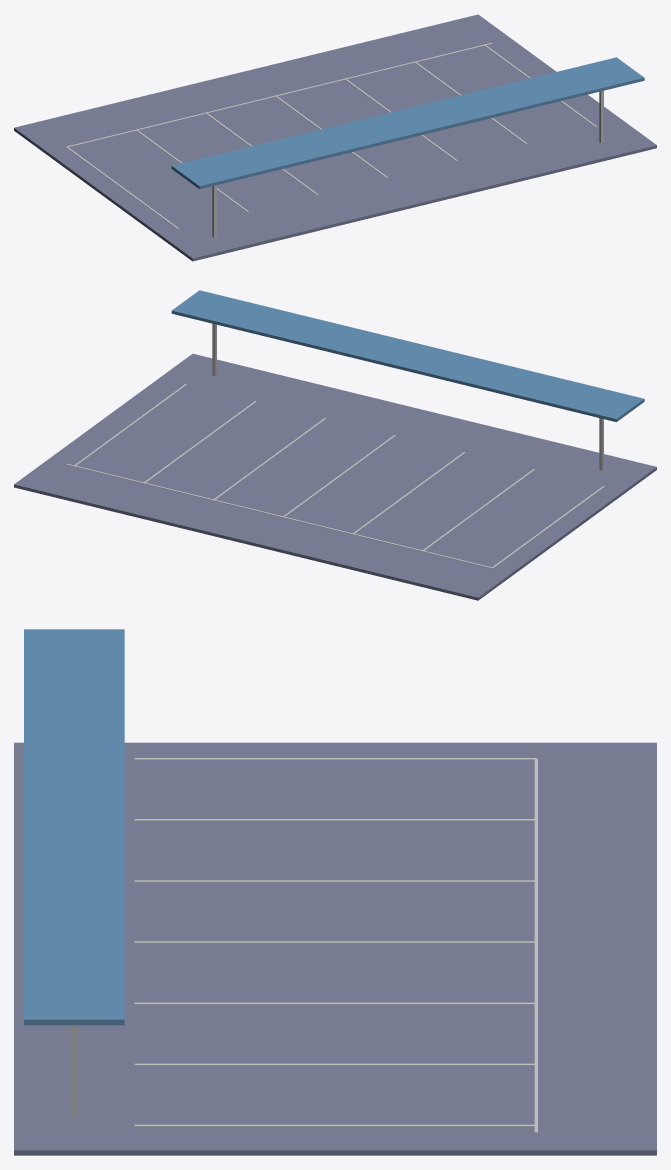
File: 18_roads_plazas-06.glb
The picture shows the model from 3 angles, top to bottom: view 1: azimuth 30°, elevation 25°; view 2: azimuth 150°, elevation 25°; view 3: azimuth 270°, elevation 25°; orthographic projection. The views are drawn at different scales.
Bounding box in the file's own units: 24 × 3.5 × 16.
